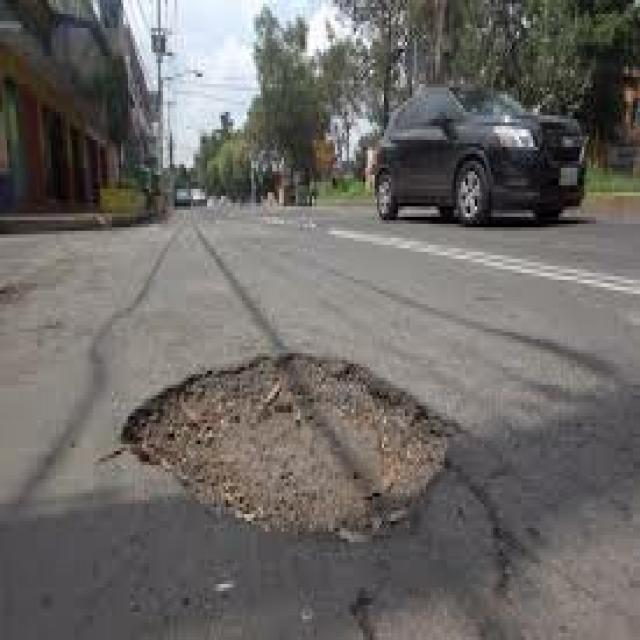Pothole: (89, 312, 516, 636)
